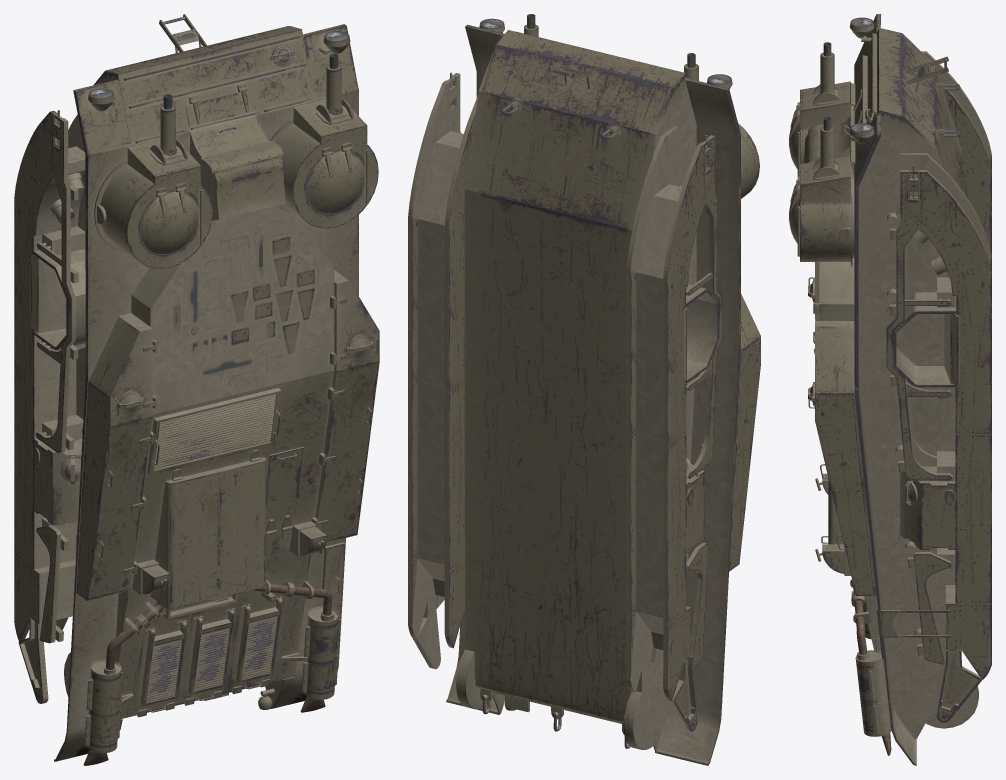
The model's file is Hull.glb.
3 renders of one model, left to right at view 1: azimuth 30°, elevation 25°; view 2: azimuth 150°, elevation 25°; view 3: azimuth 270°, elevation 25°, orthographic. The views are drawn at different scales.
Parts seen in each view (by area): view 1: set_0_group_0; view 2: set_0_group_0; view 3: set_0_group_0.
Boxes of the visible parts, <box> form: set_0_group_0: <box>14,14,379,765</box>; set_0_group_0: <box>408,14,760,765</box>; set_0_group_0: <box>789,14,991,765</box>.
Bounding box in the file's own units: 2.67 × 6.55 × 1.87.
Materials: 1 (1 with a texture image).
